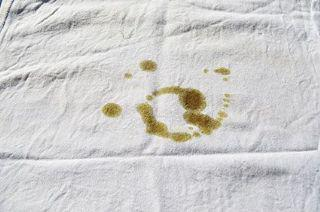gun: (132, 89, 225, 139), (202, 59, 234, 78), (138, 55, 159, 74), (98, 103, 125, 115), (219, 87, 231, 103), (121, 68, 131, 79)
